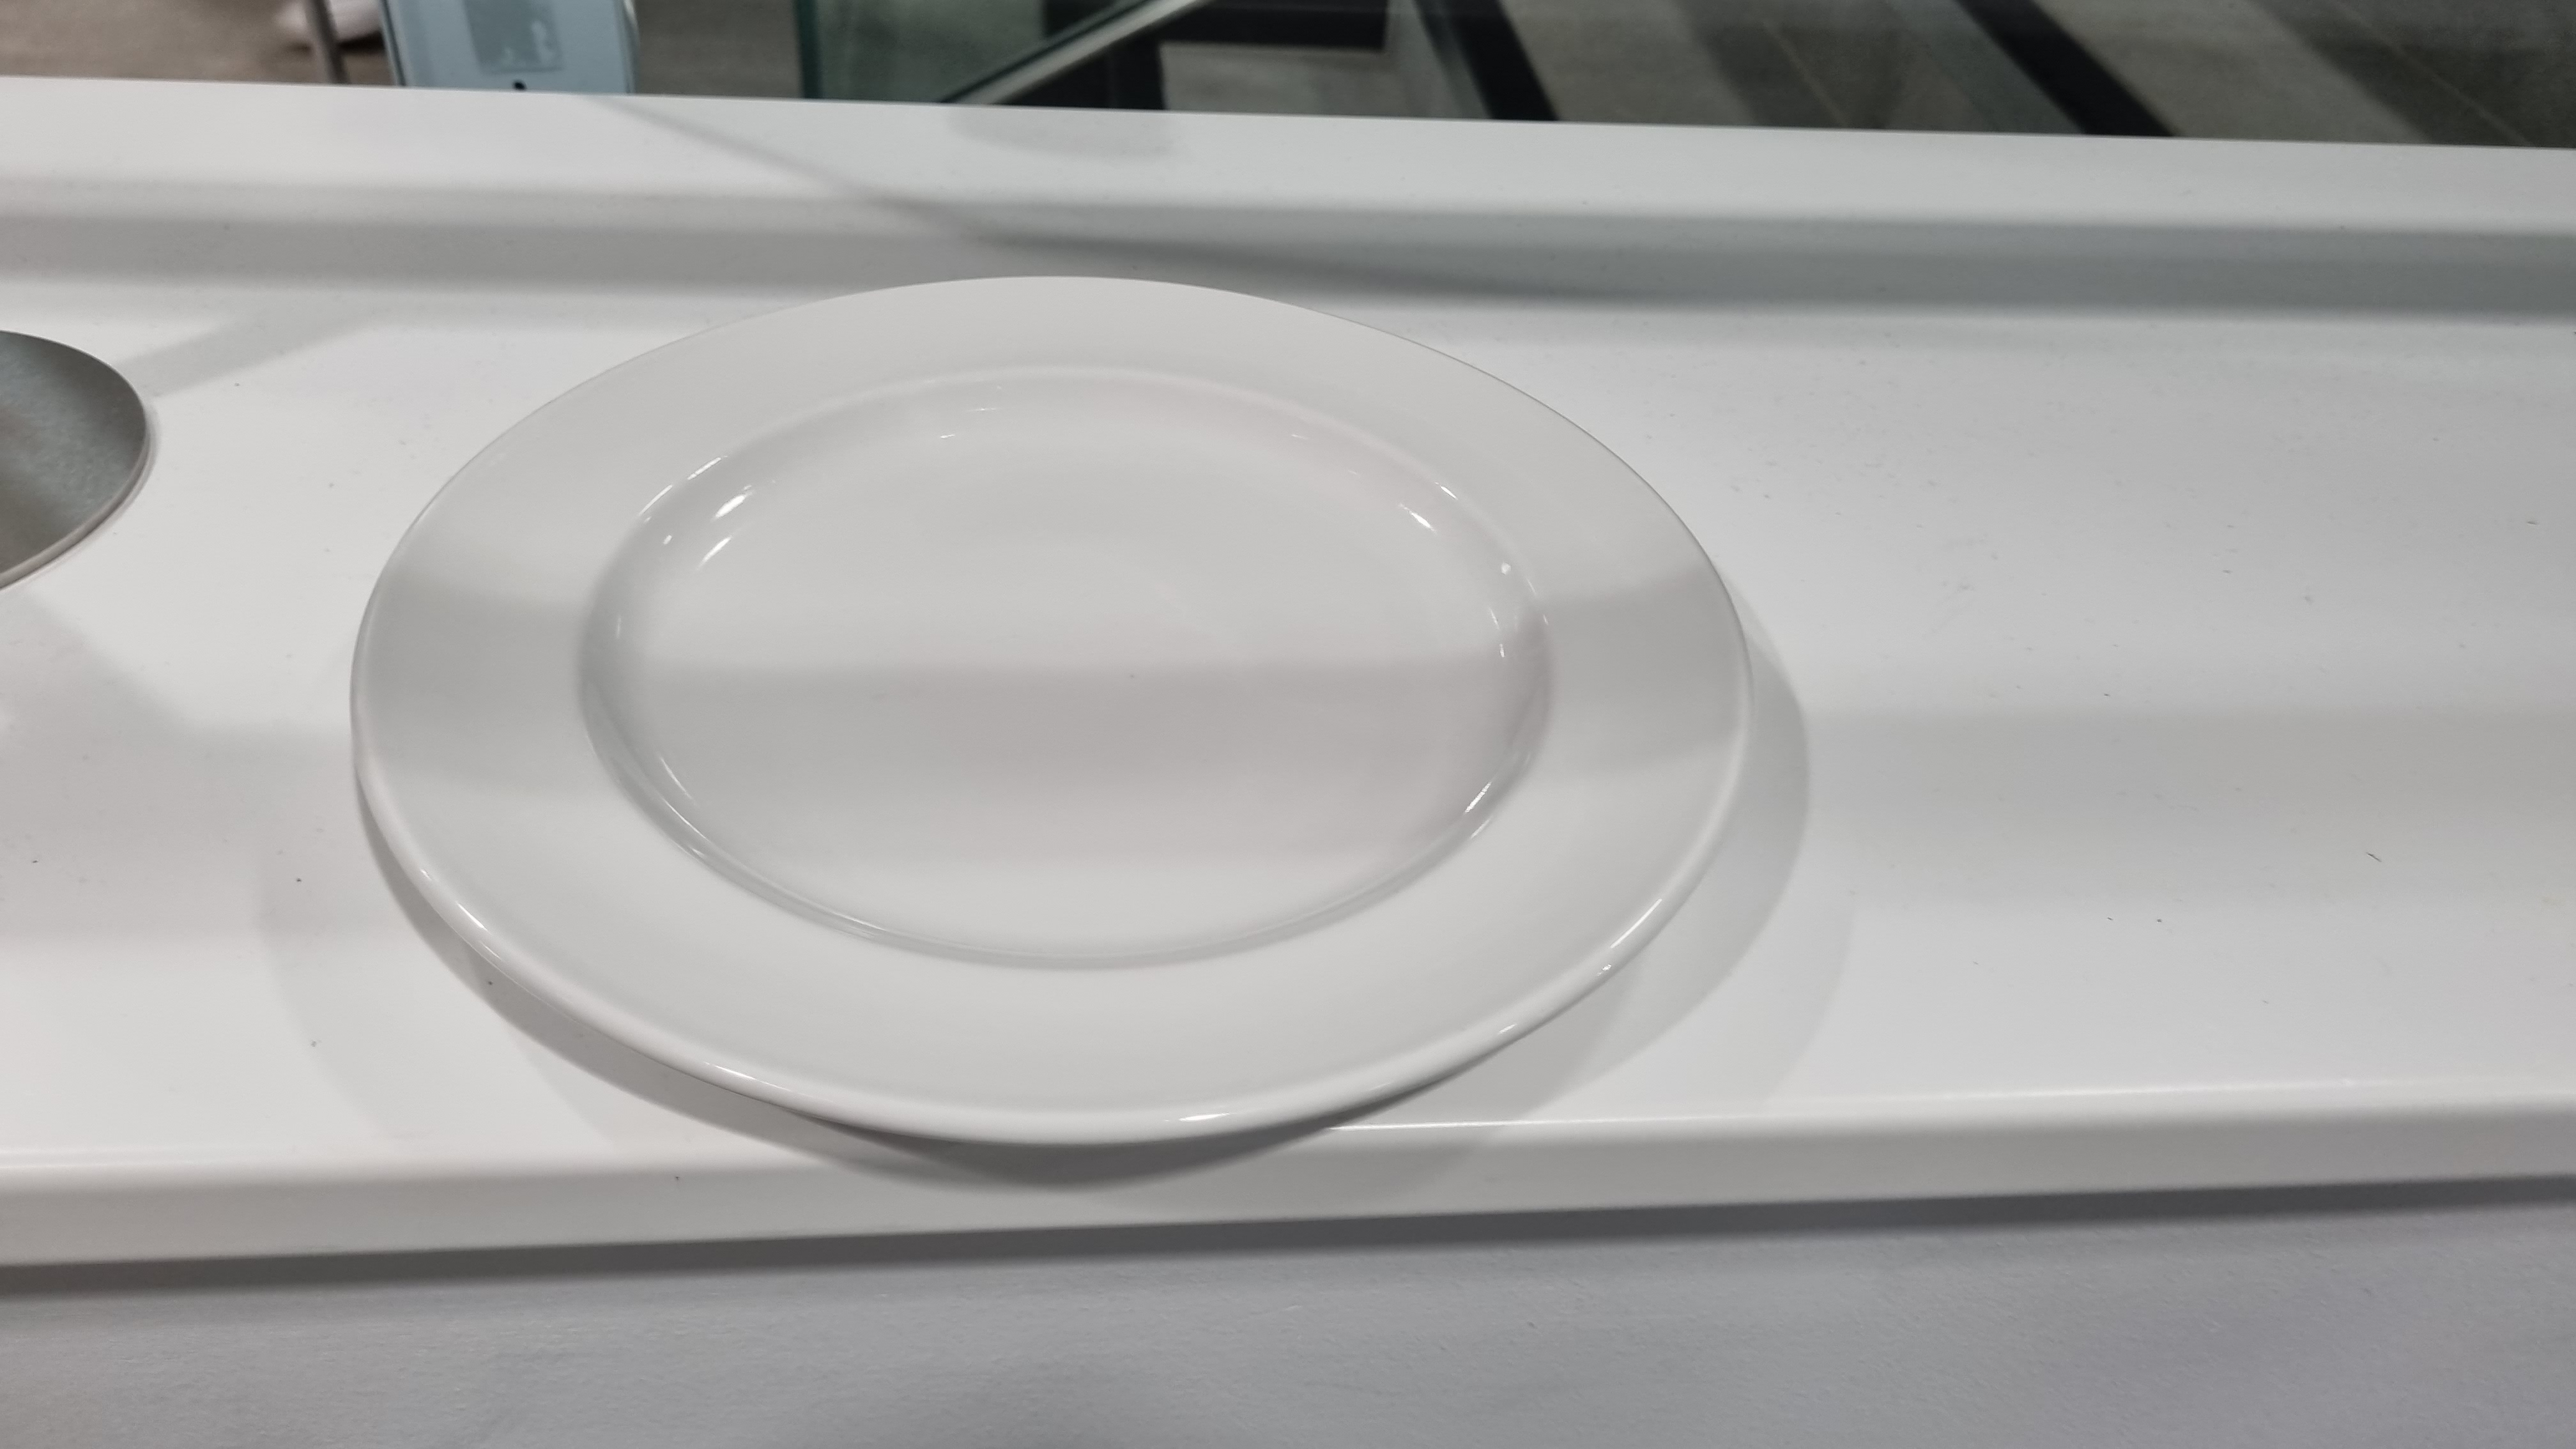plate: (333, 258, 1775, 1164)
